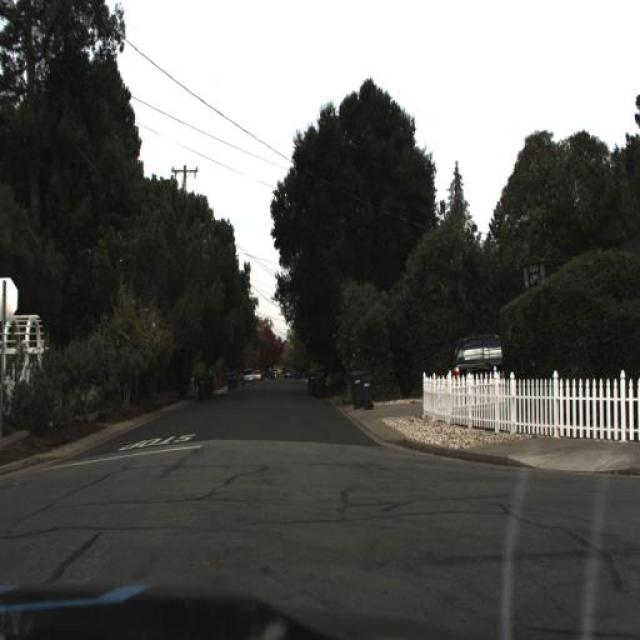car: (447, 328, 504, 388), (243, 368, 255, 383)
